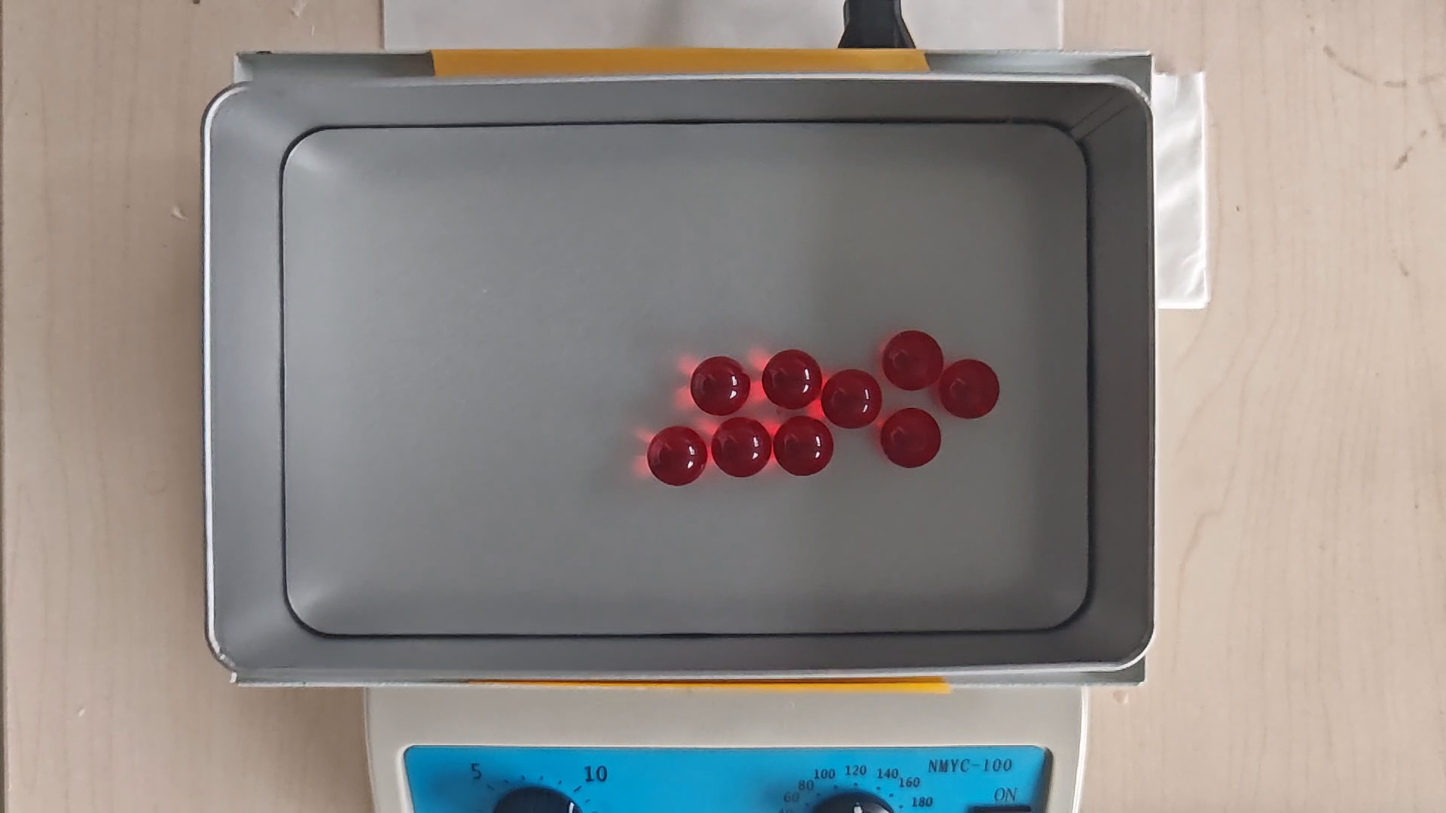ball: (647, 425, 708, 488), (822, 369, 883, 430), (881, 407, 941, 469), (762, 349, 822, 411), (712, 417, 772, 479), (690, 355, 750, 416), (882, 330, 942, 391), (774, 416, 833, 477), (941, 359, 1000, 419)
container: (277, 118, 1094, 635)
